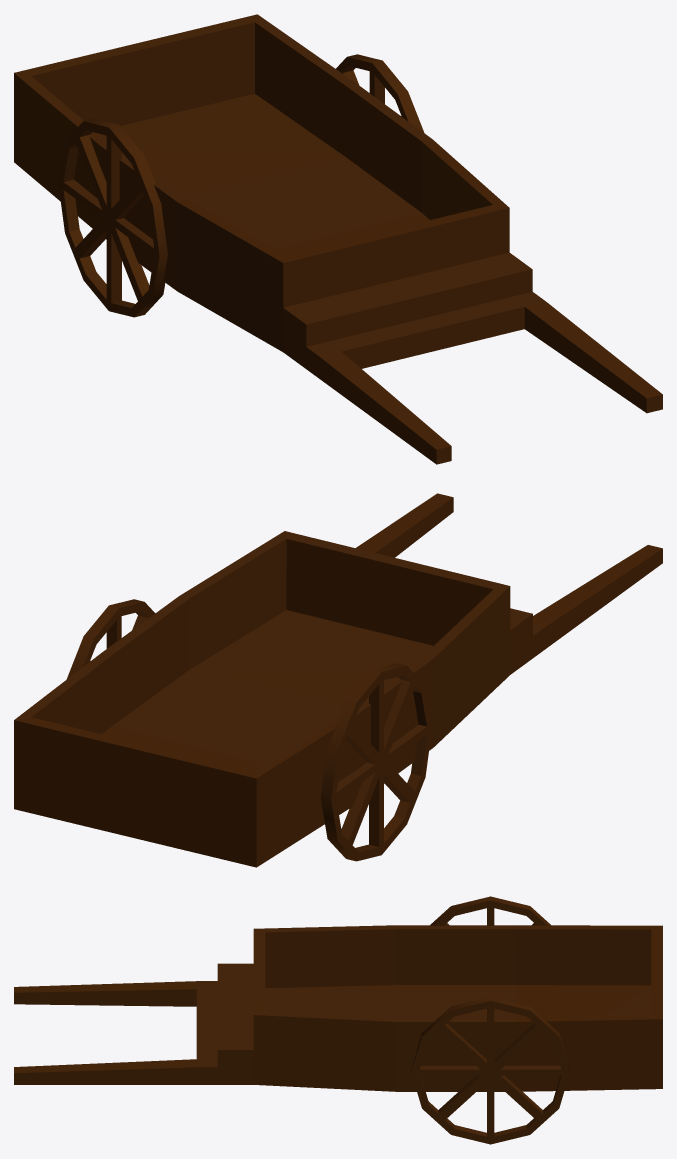
The model's file is Cart1.FBX.
3 views of the same model, one above another, from view 1: azimuth 30°, elevation 25°; view 2: azimuth 150°, elevation 25°; view 3: azimuth 270°, elevation 25° (orthographic). The views are drawn at different scales.
Parts seen in each view (by area): view 1: Cylinder003; view 2: Cylinder003; view 3: Cylinder003.
Boxes of the visible parts, <box> form: Cylinder003: <box>14,14,662,464</box>; Cylinder003: <box>14,493,662,867</box>; Cylinder003: <box>14,896,662,1144</box>.
Size of the model in its own units: 33.97 by 21.79 by 89.21.
